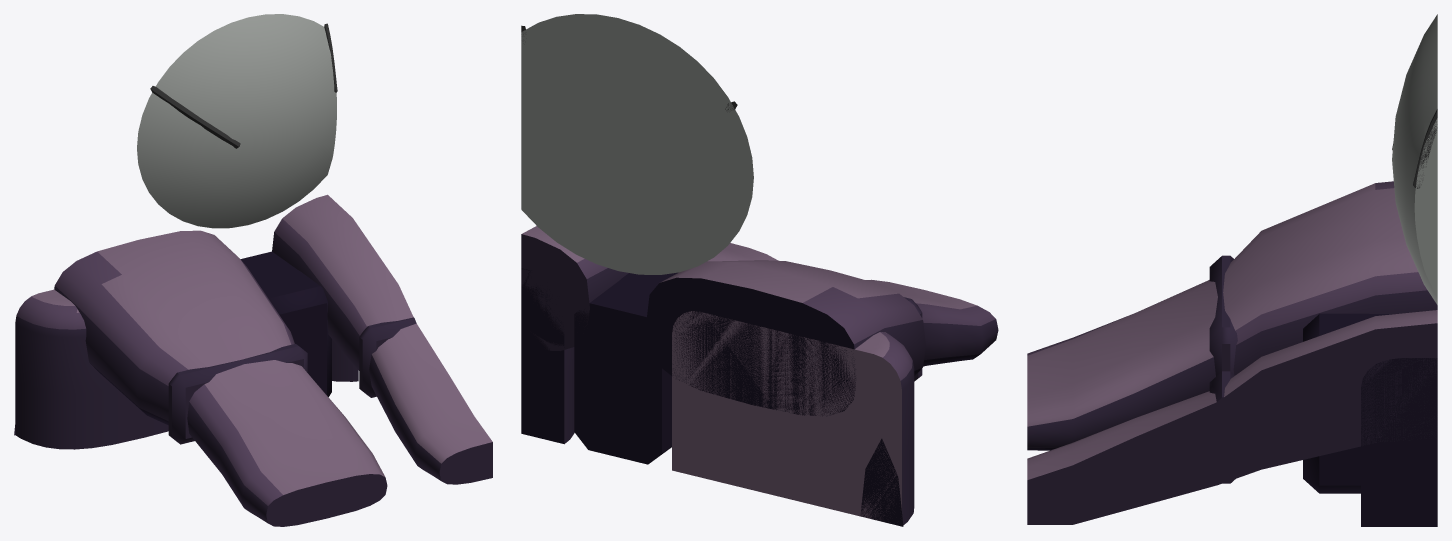
Rendered from ice_globe_bl.glb.
3 views of the same model, side by side, from view 1: azimuth 30°, elevation 25°; view 2: azimuth 150°, elevation 25°; view 3: azimuth 270°, elevation 25° (orthographic). The views are drawn at different scales.
Parts seen in each view (by area): view 1: ice_globe_bl_leg-1, ice_globe_bl_globe, ice_globe_bl_leg1, ice_globe_bl_hip-1, ice_globe_bl_crotch, ice_globe_bl_knee-1, ice_globe_bl_knee1, ice_globe_bl_seam_low, ice_globe_bl_hip1; view 2: ice_globe_bl_globe, ice_globe_bl_hip-1, ice_globe_bl_leg-1, ice_globe_bl_crotch, ice_globe_bl_hip1, ice_globe_bl_leg1, ice_globe_bl_clamp-1; view 3: ice_globe_bl_leg-1, ice_globe_bl_leg1, ice_globe_bl_hip1, ice_globe_bl_globe, ice_globe_bl_crotch, ice_globe_bl_knee1, ice_globe_bl_knee-1, ice_globe_bl_seam_right.
Boxes of the visible parts, box(x1,y1,x2,y2) form: ice_globe_bl_leg-1: box(54, 230, 387, 526); ice_globe_bl_globe: box(137, 14, 336, 228); ice_globe_bl_leg1: box(272, 194, 492, 484); ice_globe_bl_hip-1: box(15, 289, 168, 449); ice_globe_bl_crotch: box(240, 251, 331, 396); ice_globe_bl_knee-1: box(168, 344, 307, 444); ice_globe_bl_knee1: box(359, 317, 416, 397); ice_globe_bl_seam_low: box(150, 86, 240, 148); ice_globe_bl_hip1: box(332, 339, 358, 381); ice_globe_bl_globe: box(521, 14, 753, 274); ice_globe_bl_hip-1: box(672, 311, 914, 525); ice_globe_bl_leg-1: box(647, 260, 998, 416); ice_globe_bl_crotch: box(574, 272, 678, 464); ice_globe_bl_hip1: box(521, 268, 574, 444); ice_globe_bl_leg1: box(521, 226, 777, 350); ice_globe_bl_clamp-1: box(860, 438, 903, 526); ice_globe_bl_leg-1: box(1027, 181, 1437, 450); ice_globe_bl_leg1: box(1027, 310, 1437, 524); ice_globe_bl_hip1: box(1361, 358, 1437, 526); ice_globe_bl_globe: box(1392, 14, 1437, 304); ice_globe_bl_crotch: box(1303, 313, 1395, 493); ice_globe_bl_knee1: box(1209, 371, 1242, 483); ice_globe_bl_knee-1: box(1209, 255, 1237, 376); ice_globe_bl_seam_right: box(1413, 109, 1437, 188).
Bounding box in the file's own units: 21.73 × 23.88 × 19.8.
